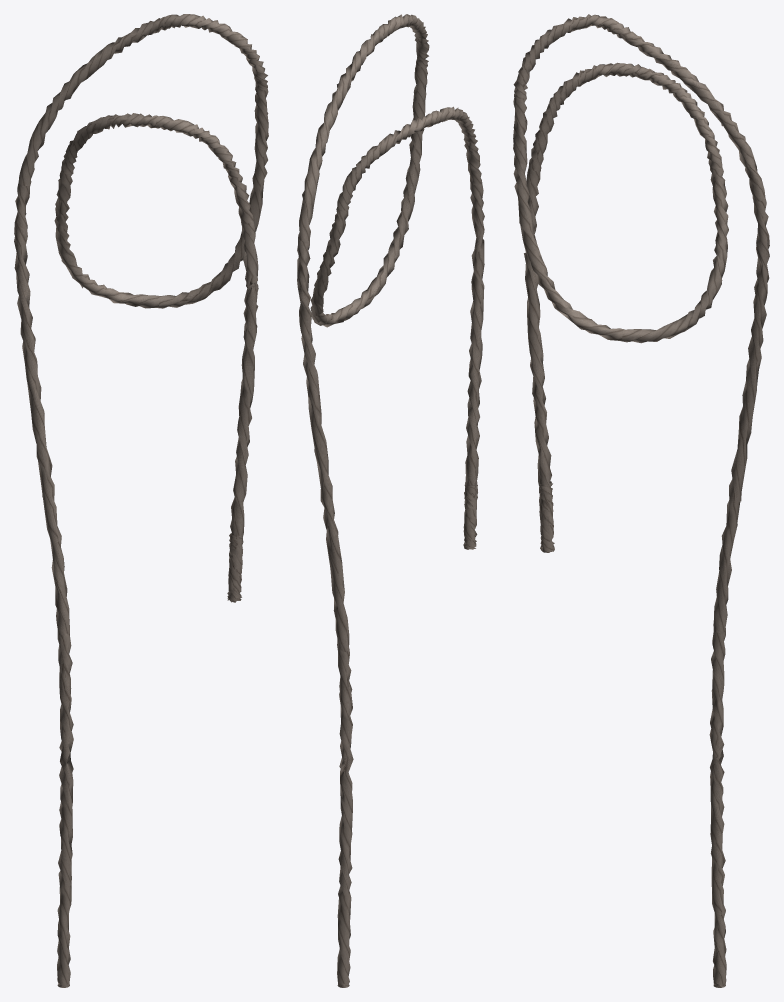
The model's file is SM_RopeSplineMesh_Splines_18.fbx.
3 views of the same model, side by side, from view 1: azimuth 90°, elevation 25°; view 2: azimuth 150°, elevation 25°; view 3: azimuth 270°, elevation 25° (orthographic). The views are drawn at different scales.
Visible parts, largest first — view 1: SM_RopeSplineMesh_Splines_18; view 2: SM_RopeSplineMesh_Splines_18; view 3: SM_RopeSplineMesh_Splines_18.
Boxes of the visible parts, bbox=[...] form: SM_RopeSplineMesh_Splines_18: bbox=[14, 14, 268, 987]; SM_RopeSplineMesh_Splines_18: bbox=[297, 14, 484, 987]; SM_RopeSplineMesh_Splines_18: bbox=[513, 14, 769, 987].
Bounding box in the file's own units: 20.96 × 44.69 × 187.
